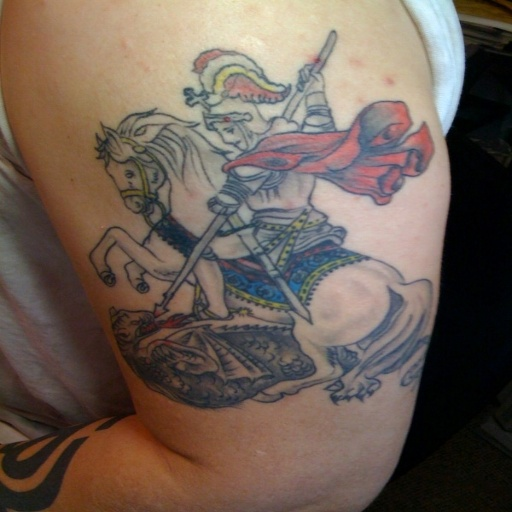hand: (292, 64, 323, 85)
